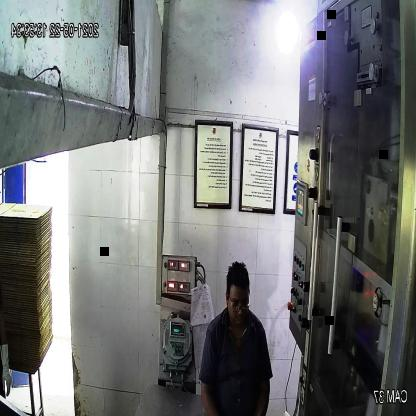goggles: (226, 295, 253, 318)
